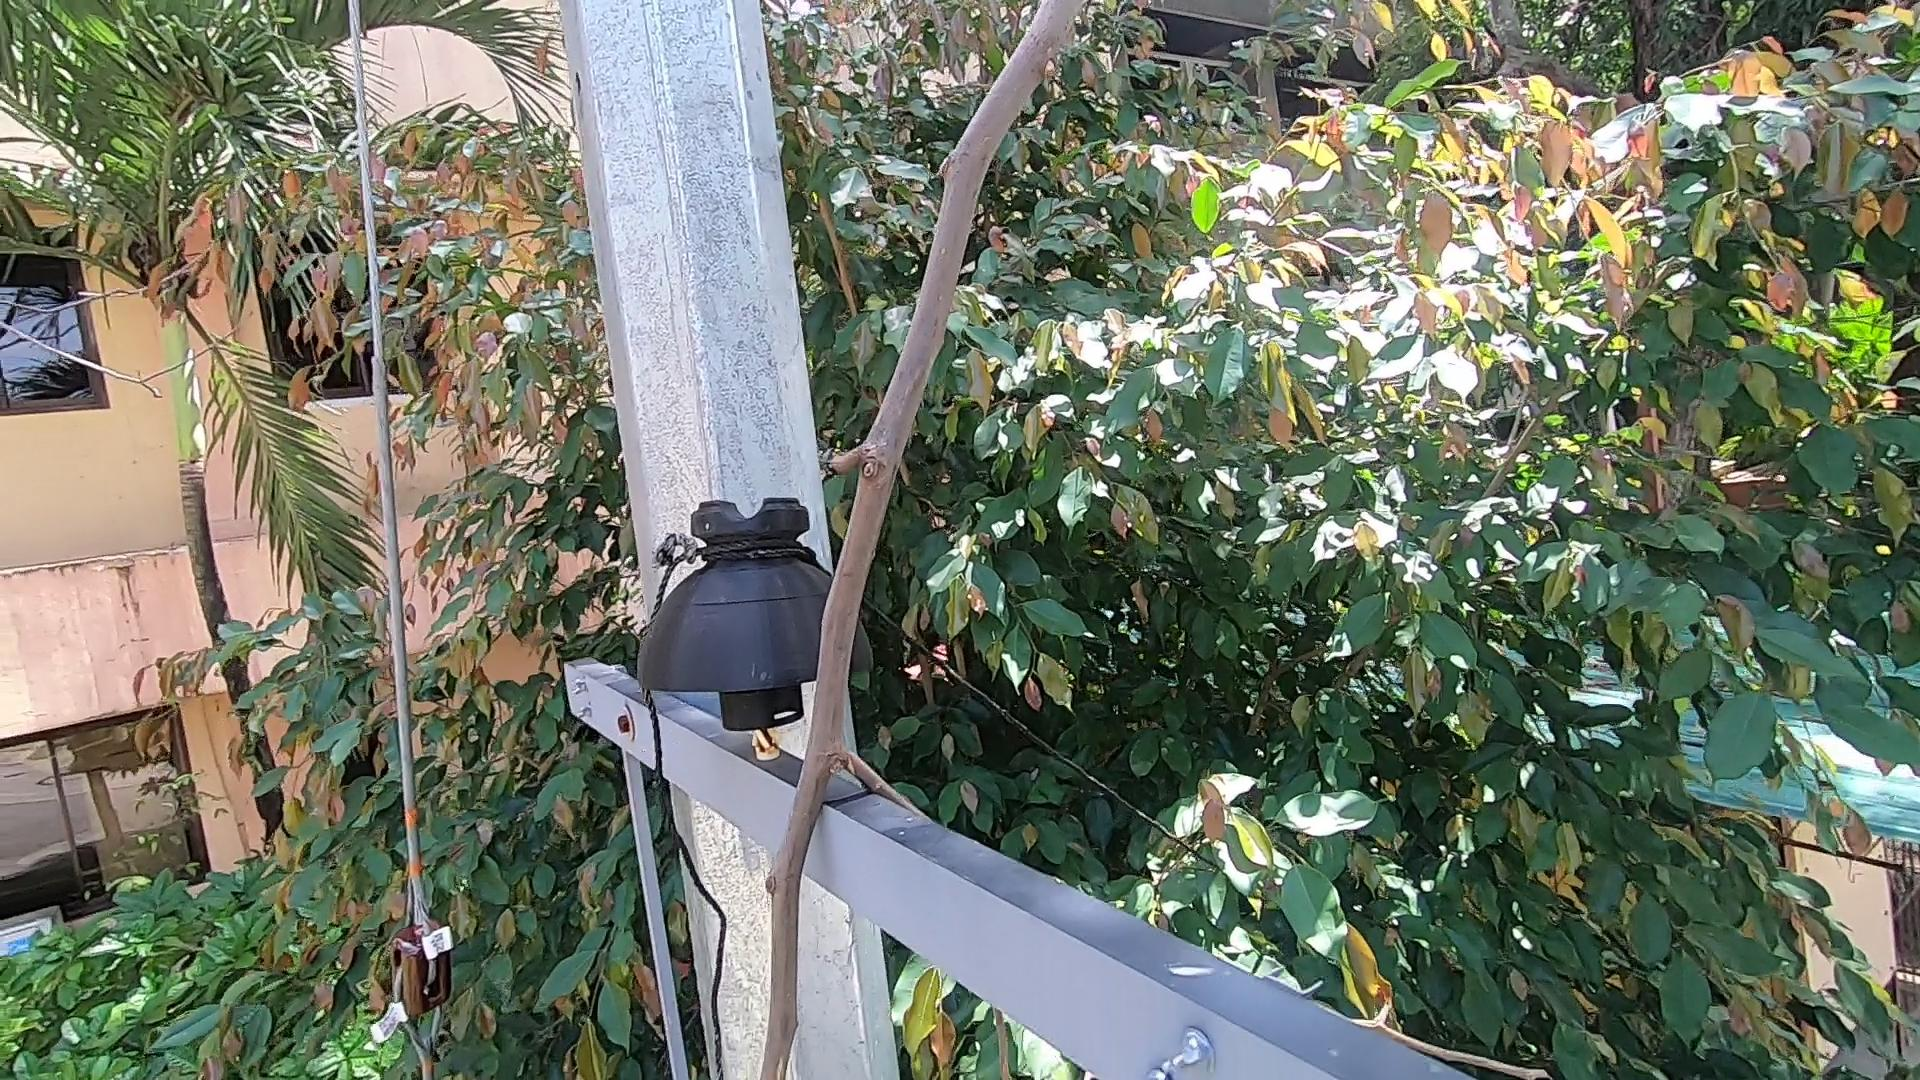tree branch: (758, 3, 1087, 1080)
